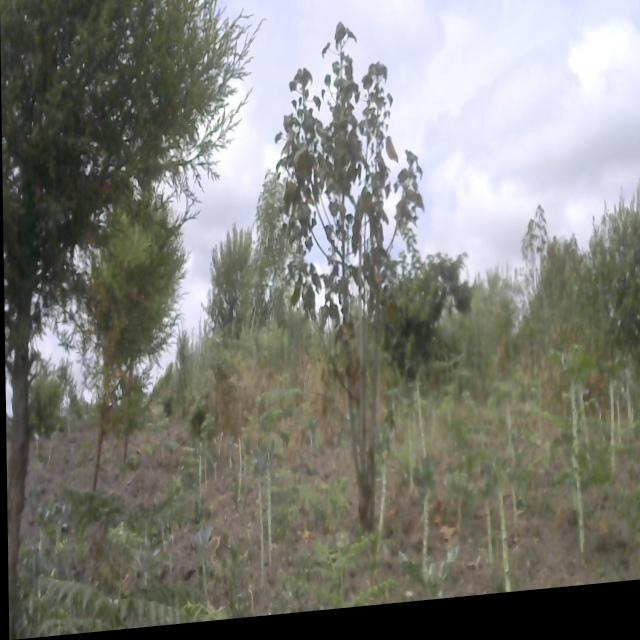cedrus: (0, 0, 260, 404), (88, 189, 184, 418)
other: (273, 18, 432, 529), (203, 222, 259, 354)
